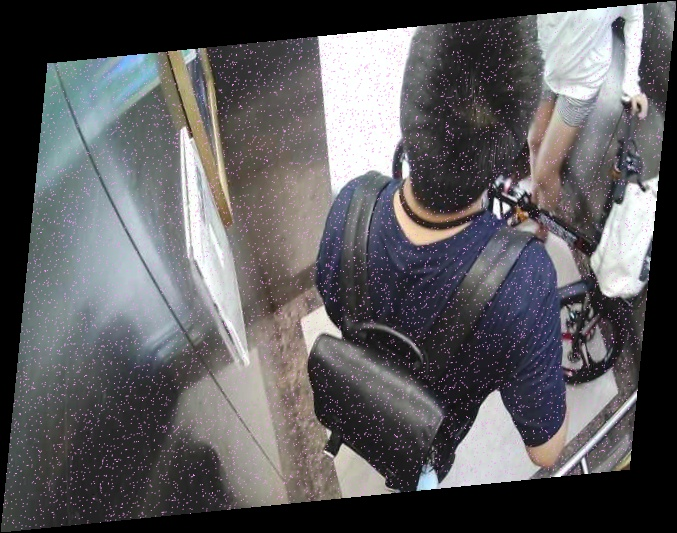bag: (305, 296, 478, 489)
bicycle: (492, 96, 645, 392)
person: (315, 1, 573, 499), (512, 1, 651, 248)
